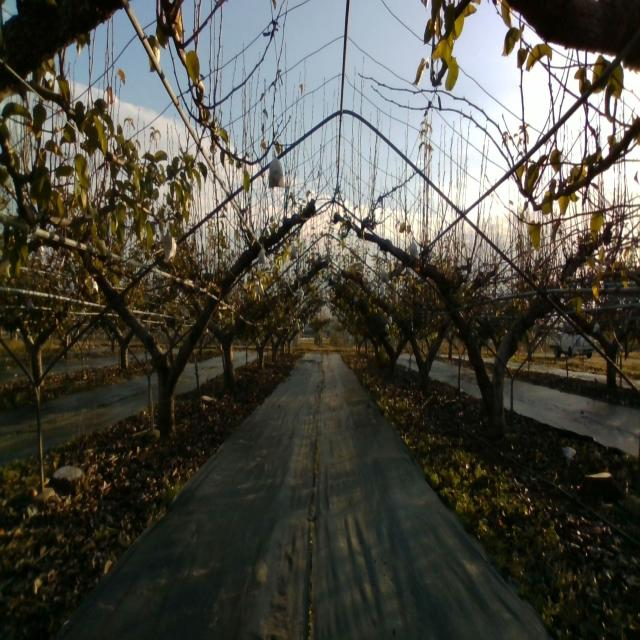pearbags: (268, 154, 286, 190), (162, 232, 177, 260), (409, 237, 420, 263)
